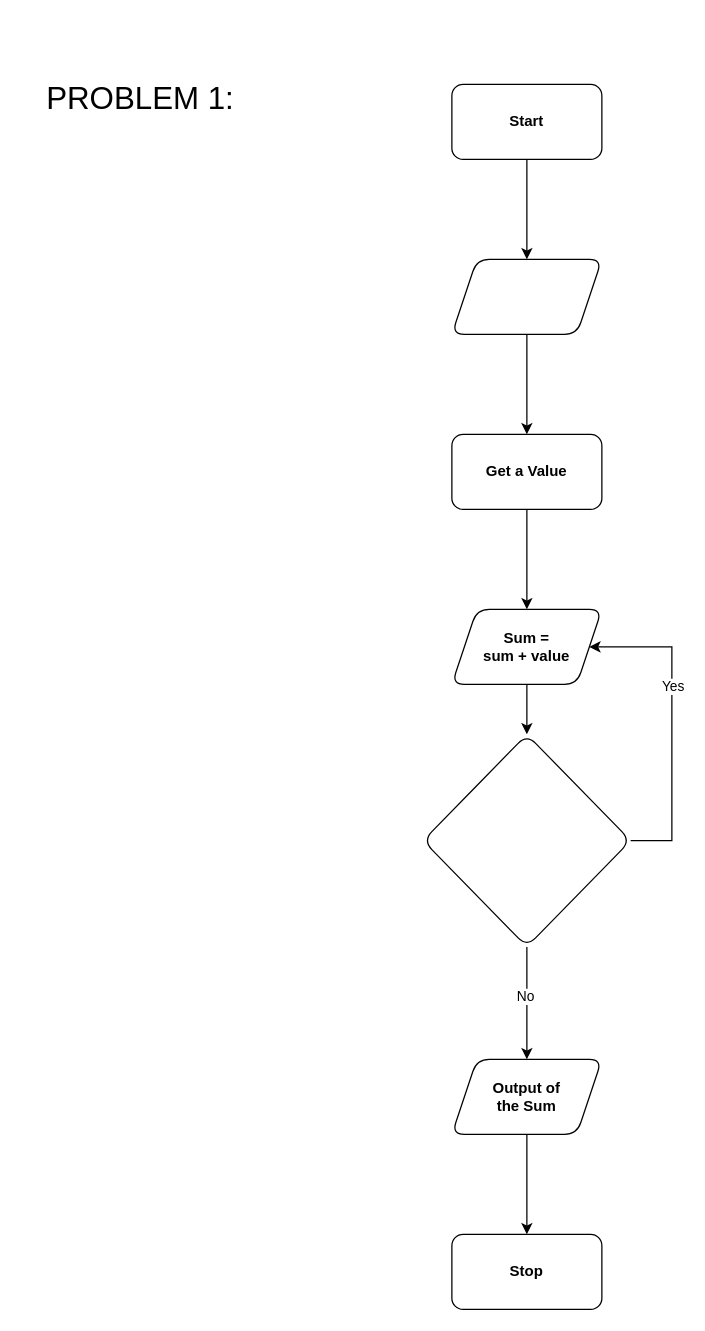
Image size: 705x1331. Some labels were removed from this diagram. Here are the shapes that lost their labels. From the top down, the centre of each, then its label:
At (x=526, y=296): "Sum = 0".
At (x=526, y=840): "Add more value?".
